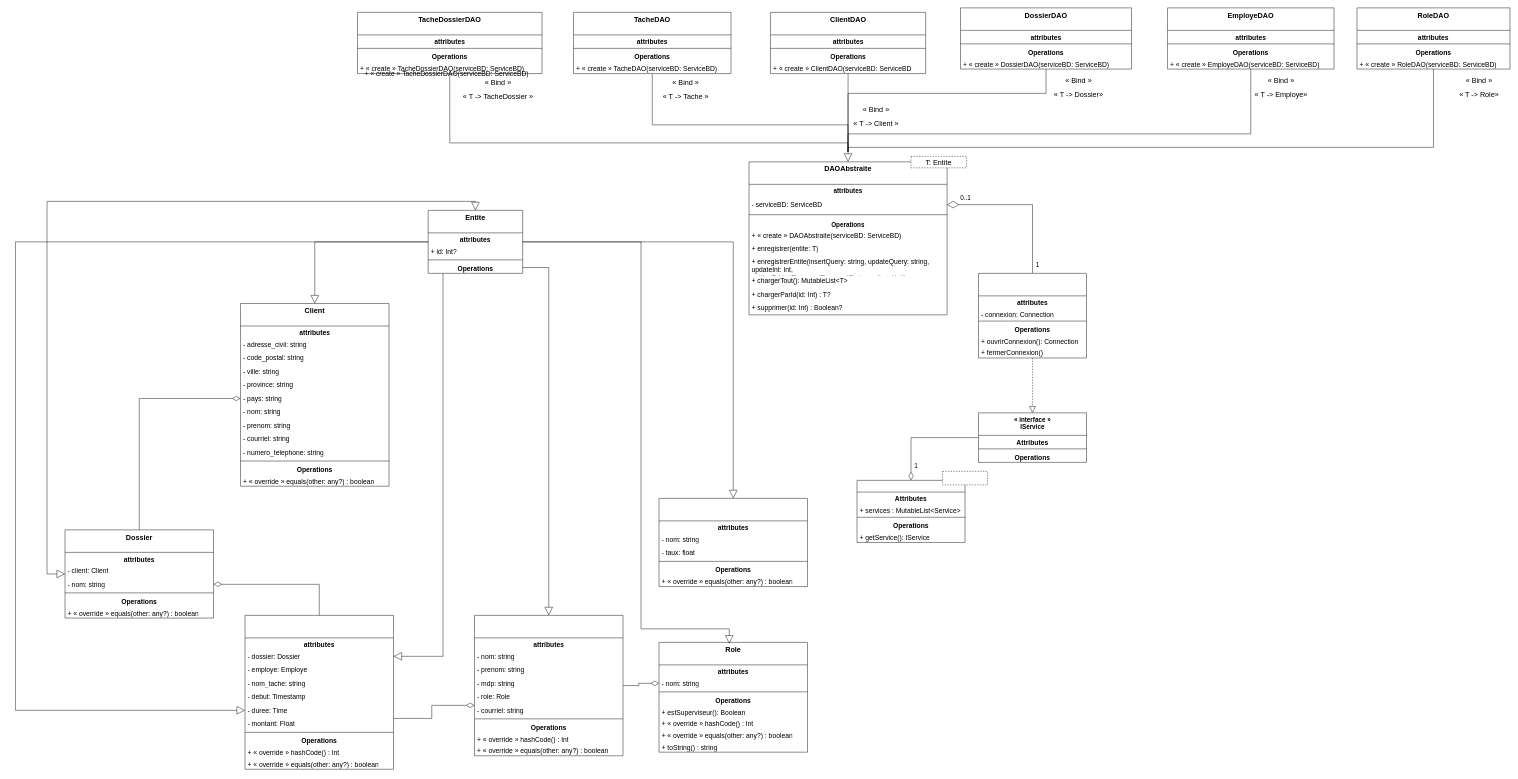
The diagram is 1518 pixels wide and 779 high, and some of its shapes have lost their labels. The box of each missing label's shape, as (x1, y1, x2, y2) in pixels:
ConteneurService: (857, 480, 965, 542)
Employe: (474, 615, 623, 756)
ServiceBD: (978, 273, 1087, 358)
T: Service: (942, 471, 988, 485)
Tache: (659, 498, 808, 587)
TacheDossier: (245, 615, 394, 769)
